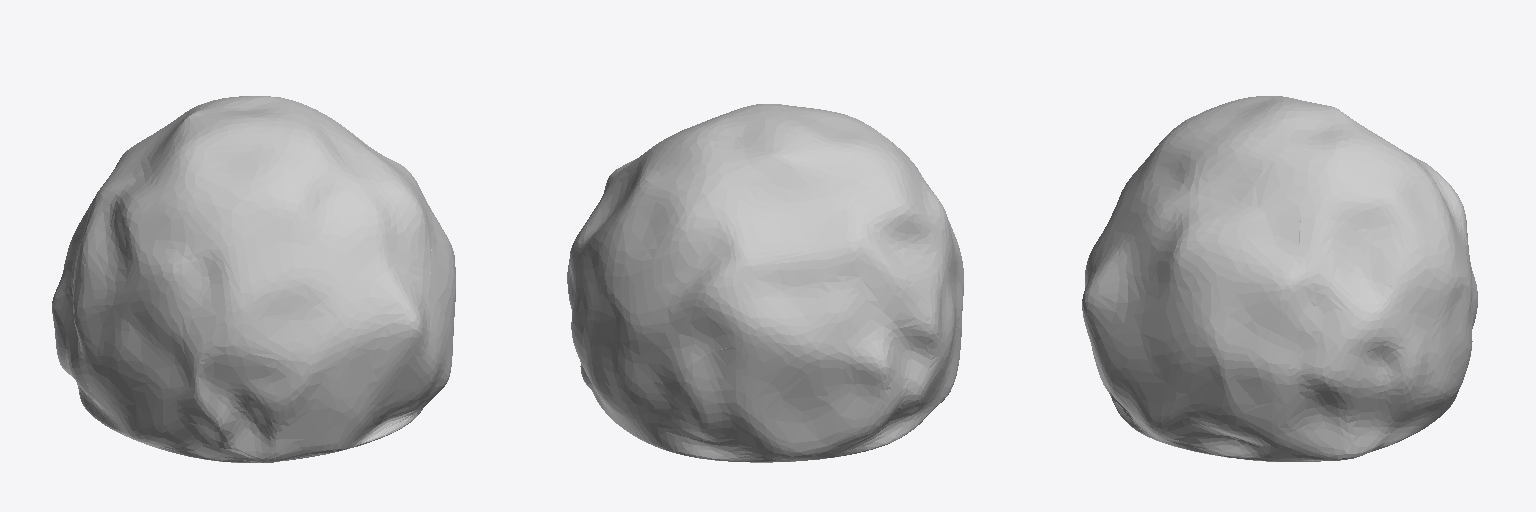
Rendered from haie.obj.
3 views of the same model, side by side, from view 1: azimuth 30°, elevation 25°; view 2: azimuth 150°, elevation 25°; view 3: azimuth 270°, elevation 25° (orthographic).
Parts seen in each view (by area): view 1: haie; view 2: haie; view 3: haie.
Part boxes in pixels (bbox=[...]): haie: bbox=[52, 96, 455, 462]; haie: bbox=[567, 104, 963, 462]; haie: bbox=[1082, 96, 1477, 461].
Bounding box in the file's own units: 146 × 111 × 145.